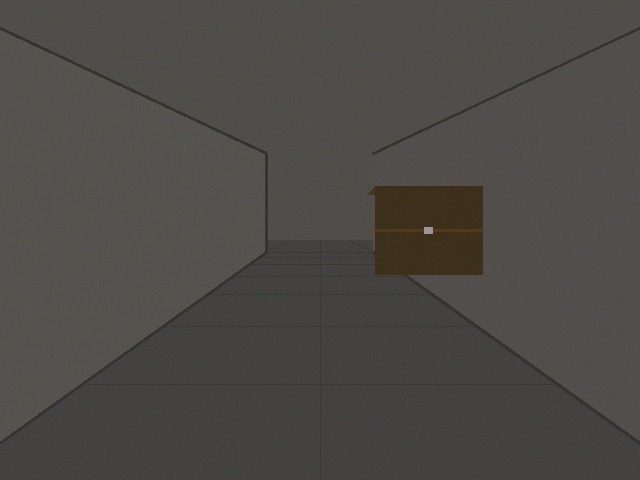box: (367, 186, 482, 274)
